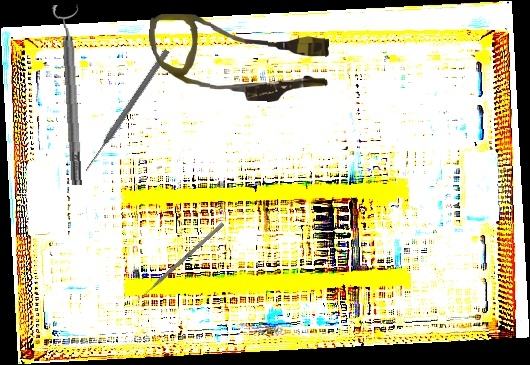Cannula: (148, 13, 330, 103)
Fixation Ring: (51, 3, 90, 186)
Pusher: (82, 47, 171, 174), (134, 222, 225, 304)
